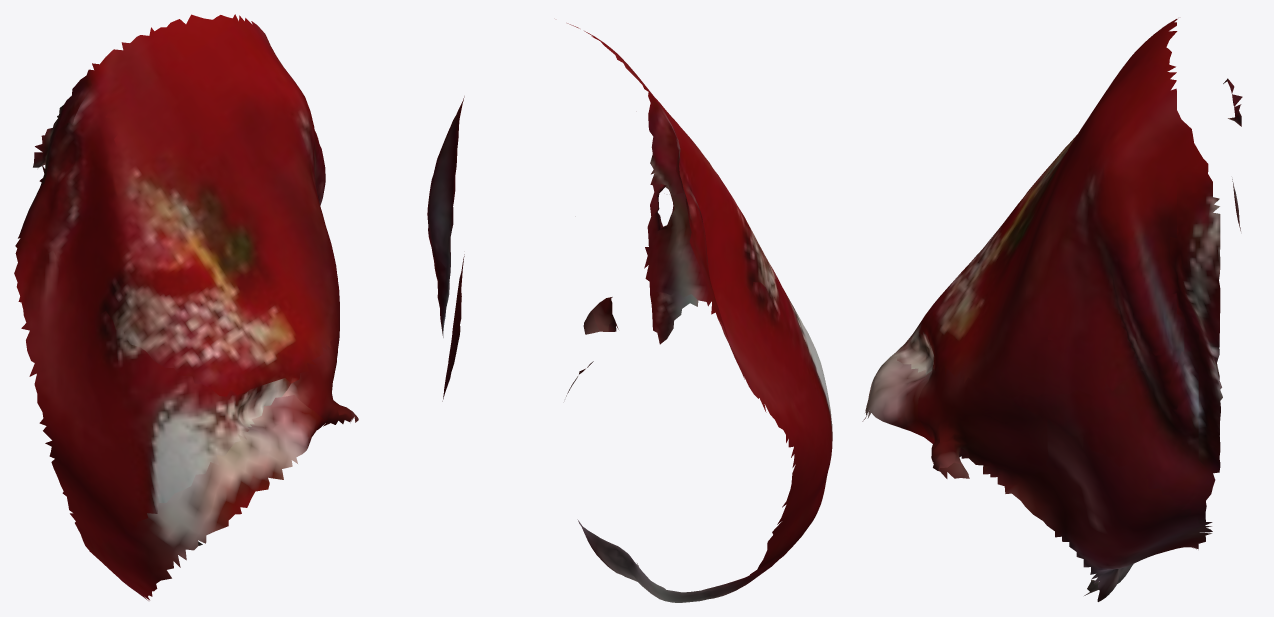
The model's file is taiko_brazo_der.glb.
3 renders of one model, left to right at view 1: azimuth 30°, elevation 25°; view 2: azimuth 150°, elevation 25°; view 3: azimuth 270°, elevation 25°, orthographic. The views are drawn at different scales.
Parts seen in each view (by area): view 1: brazo_der; view 2: brazo_der; view 3: brazo_der.
Boxes of the visible parts, x1,y1,x2,y2 form: brazo_der: (14, 14, 358, 600); brazo_der: (427, 23, 832, 602); brazo_der: (862, 19, 1242, 601).
Size of the model in its own units: 0.1169 by 0.1917 by 0.1147.
Materials: 1 (1 with a texture image).
